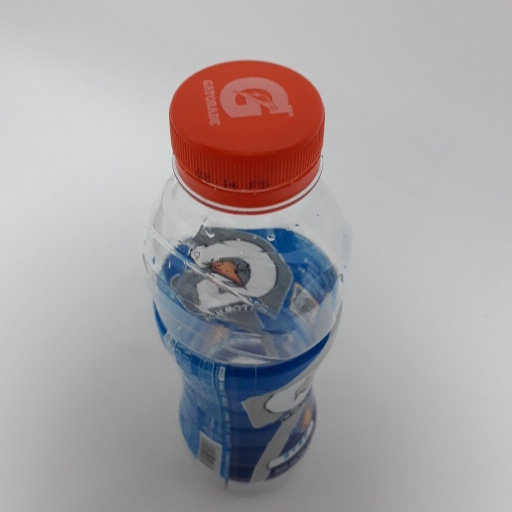Plastic_0: (144, 59, 353, 495)
